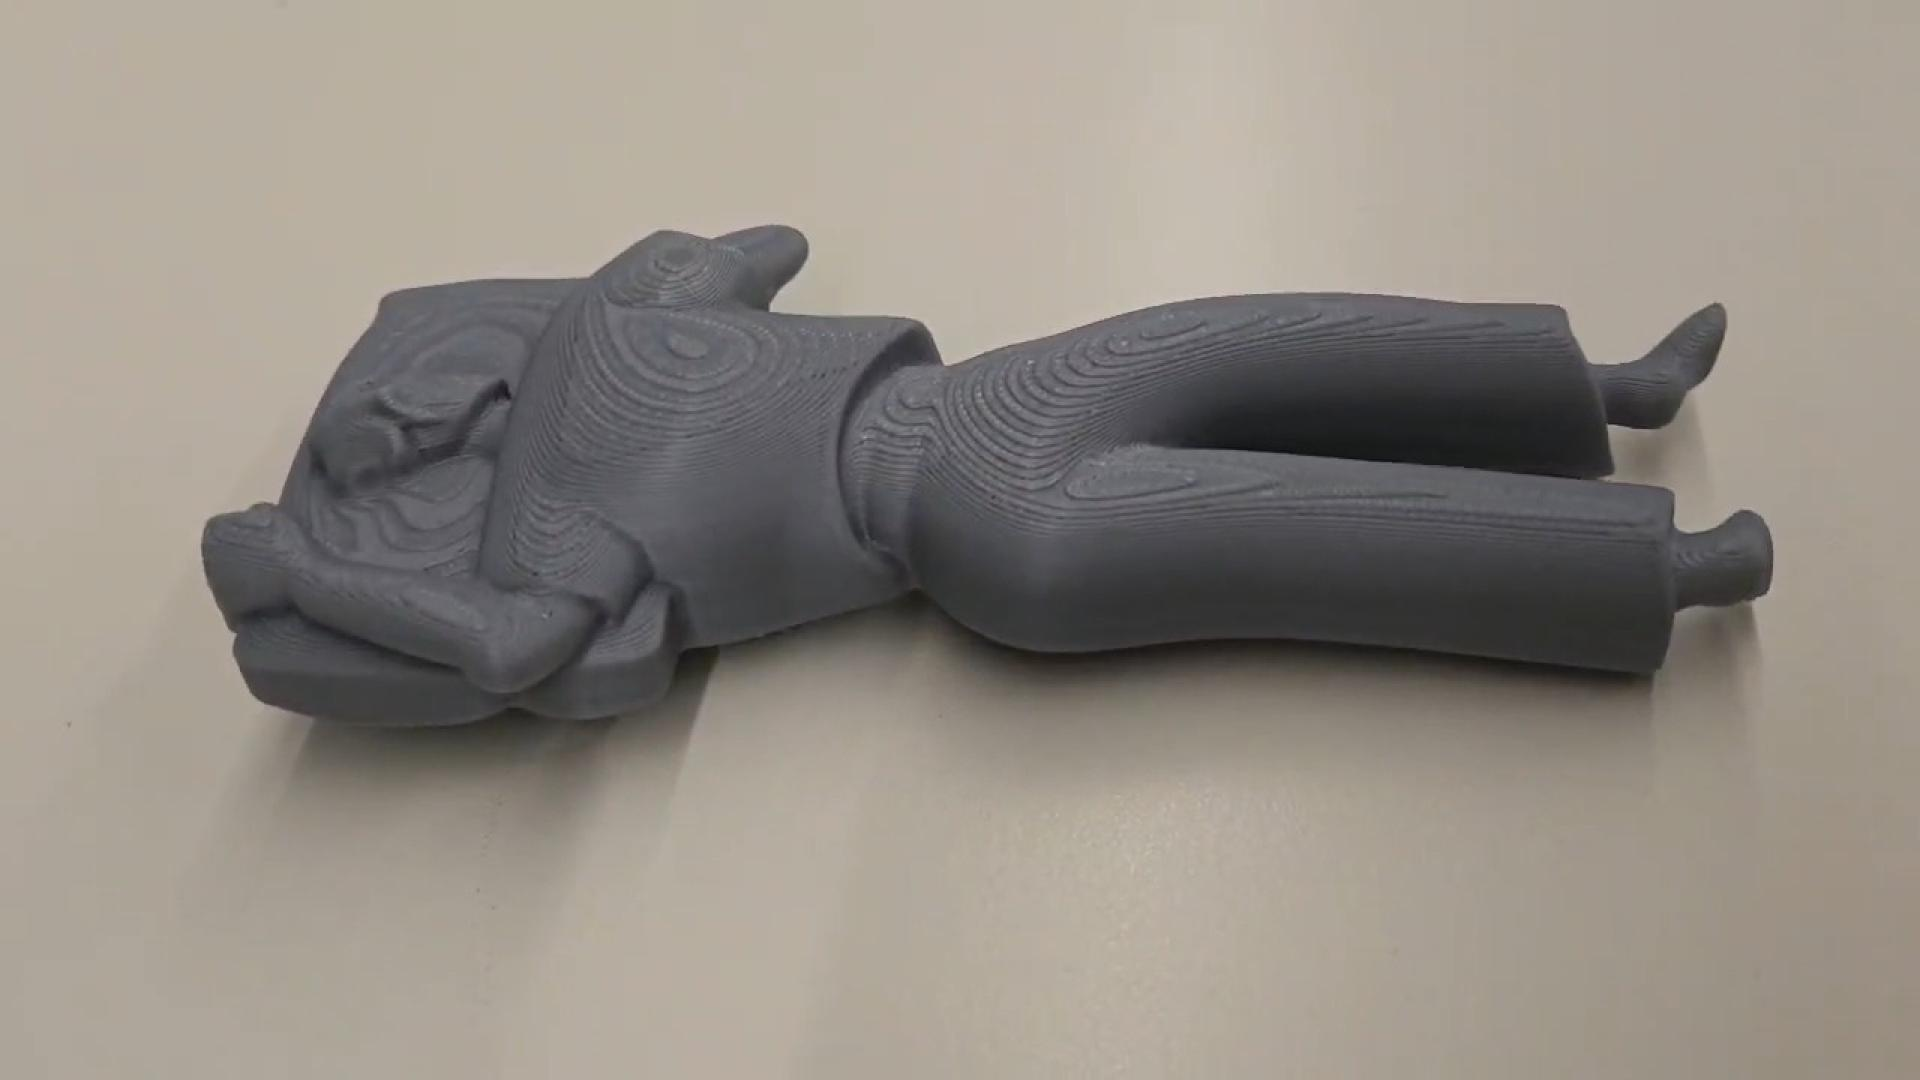Bad-style: (207, 219, 1779, 732)
